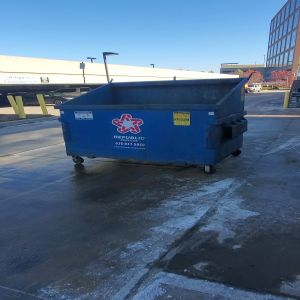Dumpster: (53, 78, 253, 178)
